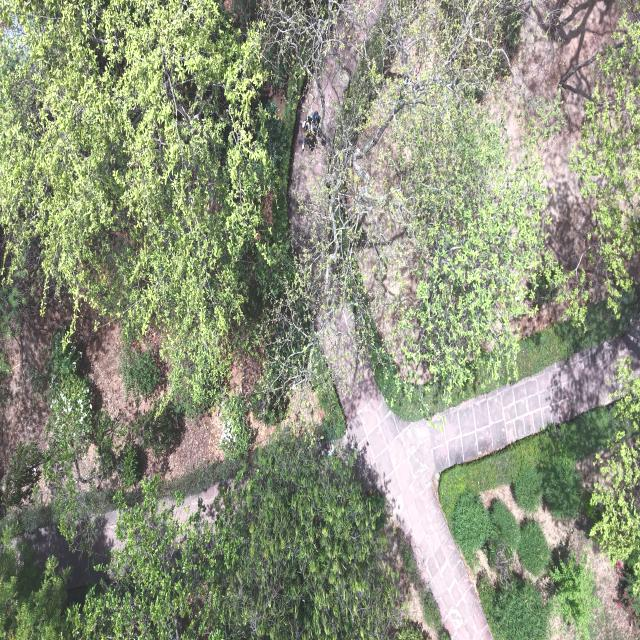DRY_AREA: (326, 337, 637, 639), (341, 334, 639, 639), (333, 338, 628, 639), (327, 349, 491, 639), (341, 368, 491, 639)
PATHWAYS: (337, 336, 639, 639), (339, 336, 639, 639), (341, 335, 639, 639), (342, 336, 632, 639)
VEGETATION_TREE: (0, 0, 624, 639), (0, 0, 565, 435), (0, 1, 298, 544), (260, 1, 567, 396), (0, 1, 291, 413), (1, 2, 289, 411), (0, 1, 289, 406), (350, 2, 639, 406), (331, 2, 586, 414), (341, 1, 568, 400), (1, 442, 408, 639), (9, 443, 418, 639), (62, 442, 408, 637), (74, 444, 399, 639), (249, 0, 378, 422), (438, 360, 639, 629), (380, 80, 546, 396), (438, 401, 632, 637), (438, 369, 639, 566), (4, 333, 183, 550), (4, 333, 182, 550), (216, 448, 395, 637), (438, 399, 632, 567), (17, 333, 135, 550), (75, 478, 227, 639), (569, 11, 639, 313), (243, 262, 344, 438), (449, 491, 547, 639), (511, 285, 639, 380), (42, 334, 98, 549), (590, 359, 639, 596), (419, 0, 523, 99), (438, 431, 546, 518), (438, 434, 539, 524), (0, 525, 73, 639), (258, 0, 357, 81), (590, 433, 639, 593), (43, 458, 111, 554), (42, 448, 100, 551), (46, 335, 92, 461), (397, 534, 448, 639), (477, 576, 548, 639), (549, 552, 599, 639), (0, 271, 31, 403), (559, 402, 630, 459), (541, 435, 582, 518), (158, 458, 243, 498), (0, 442, 41, 518), (449, 491, 489, 567), (132, 403, 181, 457), (118, 342, 161, 399), (313, 366, 345, 439), (220, 395, 251, 458), (517, 520, 550, 576), (613, 358, 639, 429), (0, 276, 26, 340), (92, 411, 116, 480), (397, 535, 425, 594), (482, 531, 512, 582), (490, 499, 519, 549), (617, 568, 639, 631), (513, 466, 541, 512), (116, 440, 141, 488), (420, 589, 441, 631), (476, 573, 494, 620), (395, 621, 427, 639), (437, 627, 449, 639)
